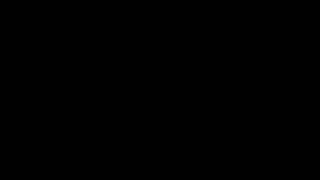go_ahead: (290, 21, 320, 56)
